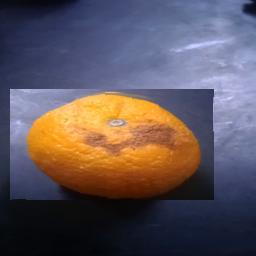Orange Semifresh: (11, 90, 215, 201)
